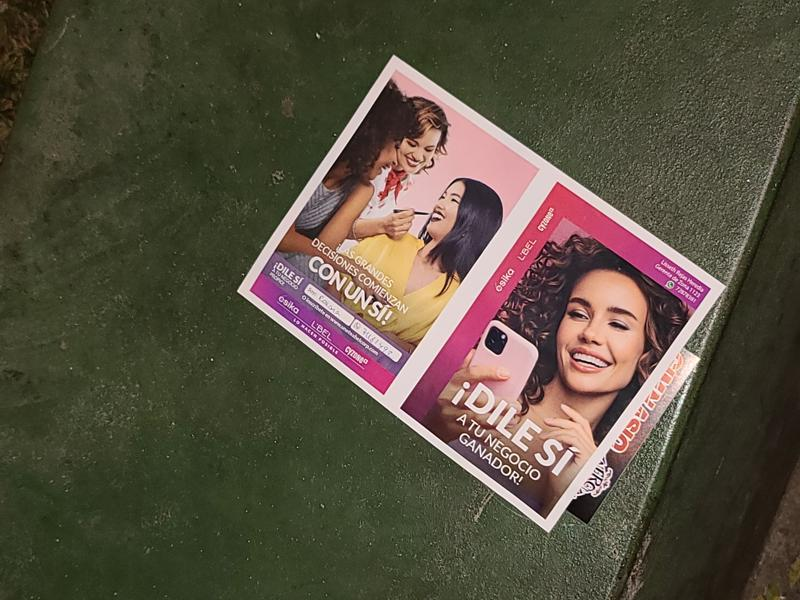papel: (237, 57, 722, 534)
